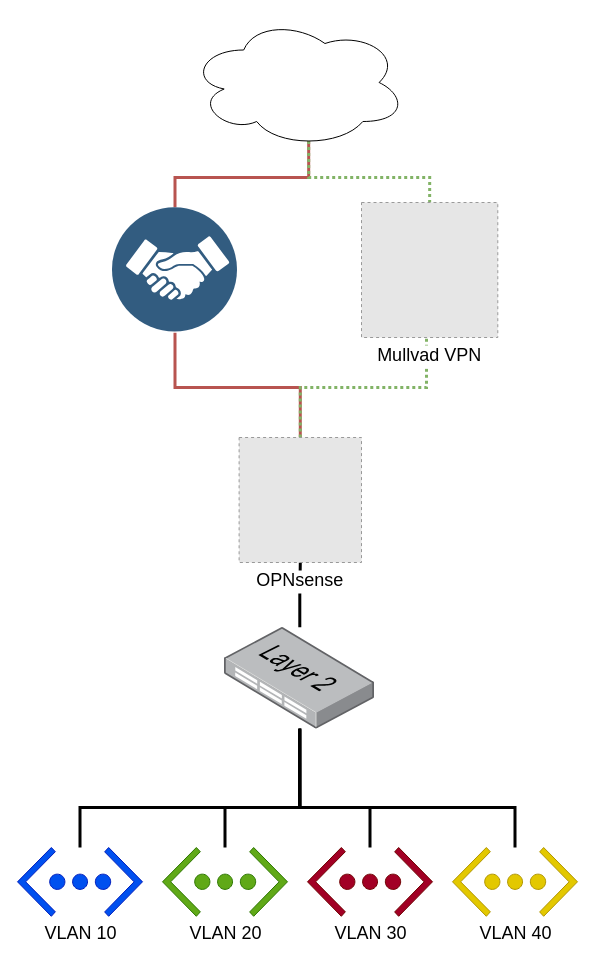
Some shapes in this 595 by 963 pixel diagram are drawn without their labels. Grey dashed boxes stand in for pictures. Each missing label, with the centre of its shape:
"Internet Service Proivder" goes at [174,269].
"VLAN-capable switch" goes at [299,677].
"WWW" goes at [297,82].
